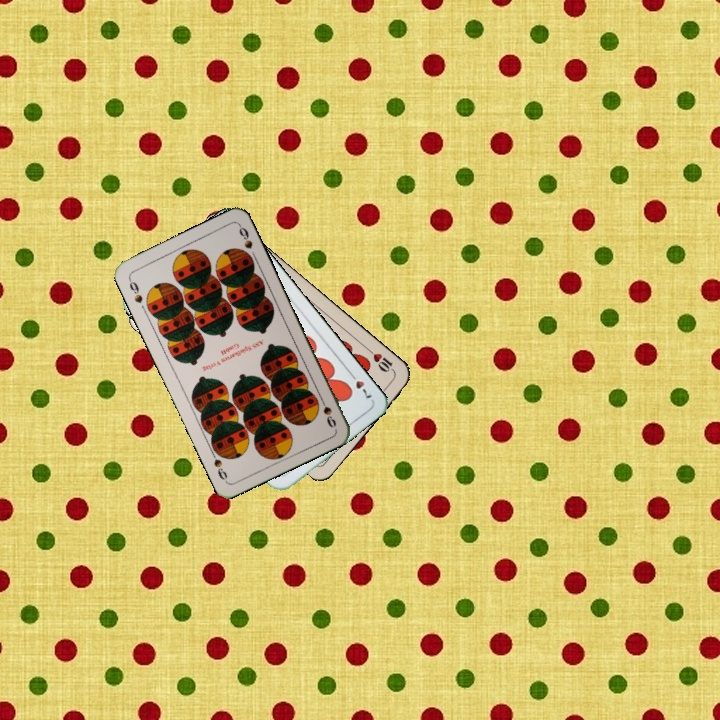H10: (363, 344, 397, 375)
H7: (345, 368, 375, 402)
S9: (315, 392, 339, 431), (125, 274, 145, 306)
